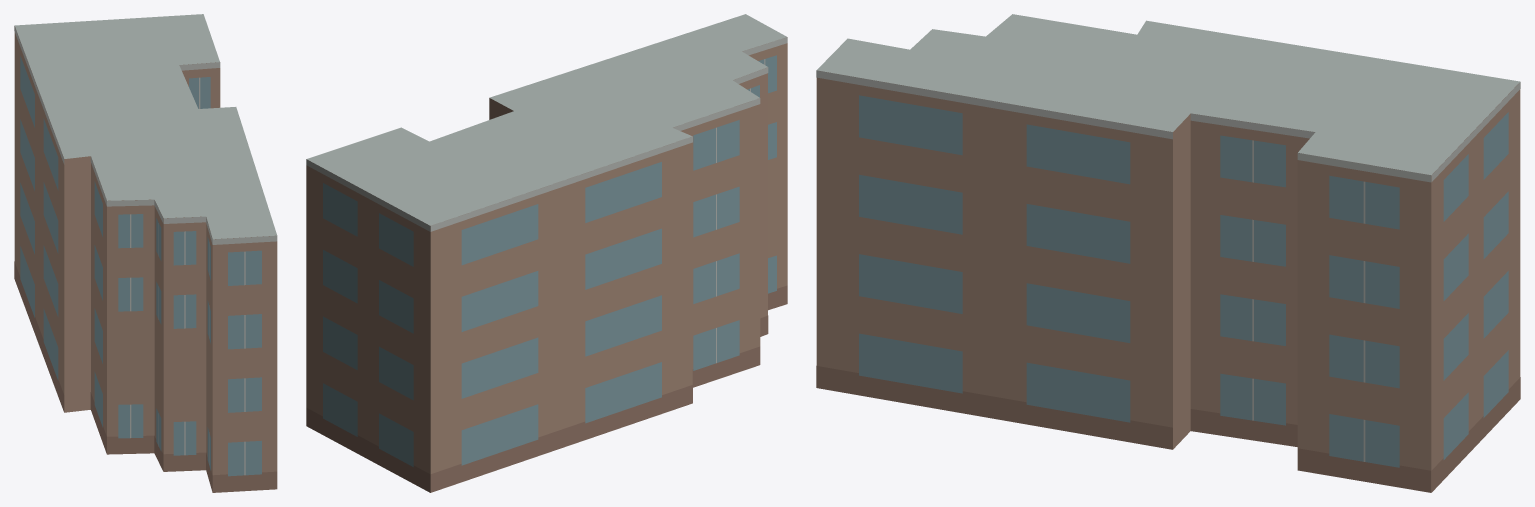
The model's file is survey-upis-32998476.glb.
3 views of the same model, side by side, from view 1: azimuth 30°, elevation 25°; view 2: azimuth 150°, elevation 25°; view 3: azimuth 270°, elevation 25° (orthographic). The views are drawn at different scales.
Parts seen in each view (by area): view 1: survey-upis-32998476.tmp; view 2: survey-upis-32998476.tmp; view 3: survey-upis-32998476.tmp.
Boxes of the visible parts, box(x1,y1,x2,y2) form: survey-upis-32998476.tmp: box(14, 14, 277, 492); survey-upis-32998476.tmp: box(306, 14, 787, 492); survey-upis-32998476.tmp: box(816, 14, 1520, 492).
Bounding box in the file's own units: 11.66 × 10.7 × 21.5.
